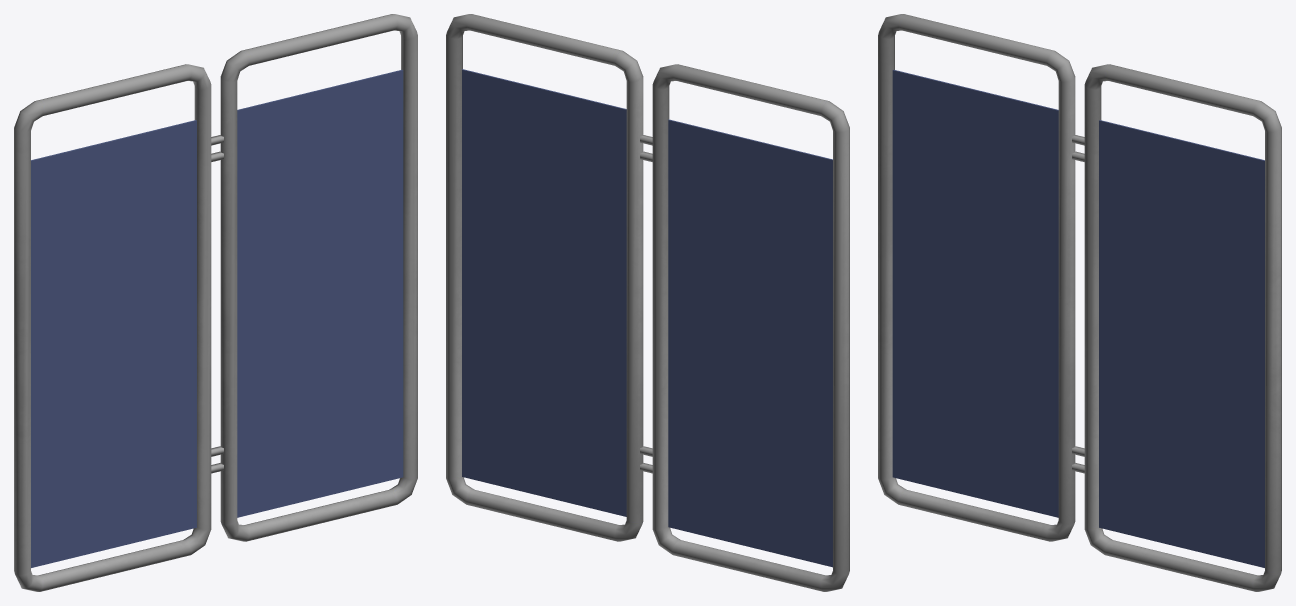
Rendered from separation-curtain.glb.
3 views of the same model, side by side, from view 1: azimuth 30°, elevation 25°; view 2: azimuth 150°, elevation 25°; view 3: azimuth 330°, elevation 25° (orthographic).
Visible parts, largest first — view 1: Curtain-material; view 2: Curtain-material; view 3: Curtain-material.
Boxes of the visible parts, x1,y1,x2,y2 form: Curtain-material: [14, 14, 417, 591]; Curtain-material: [446, 14, 849, 591]; Curtain-material: [878, 14, 1281, 591].
Size of the model in its own units: 2.75 by 3.21 by 0.1035.
Materials: 1 (1 with a texture image).
